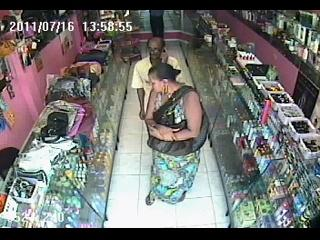Normal: (144, 64, 206, 206), (130, 37, 180, 121), (77, 50, 109, 66)
